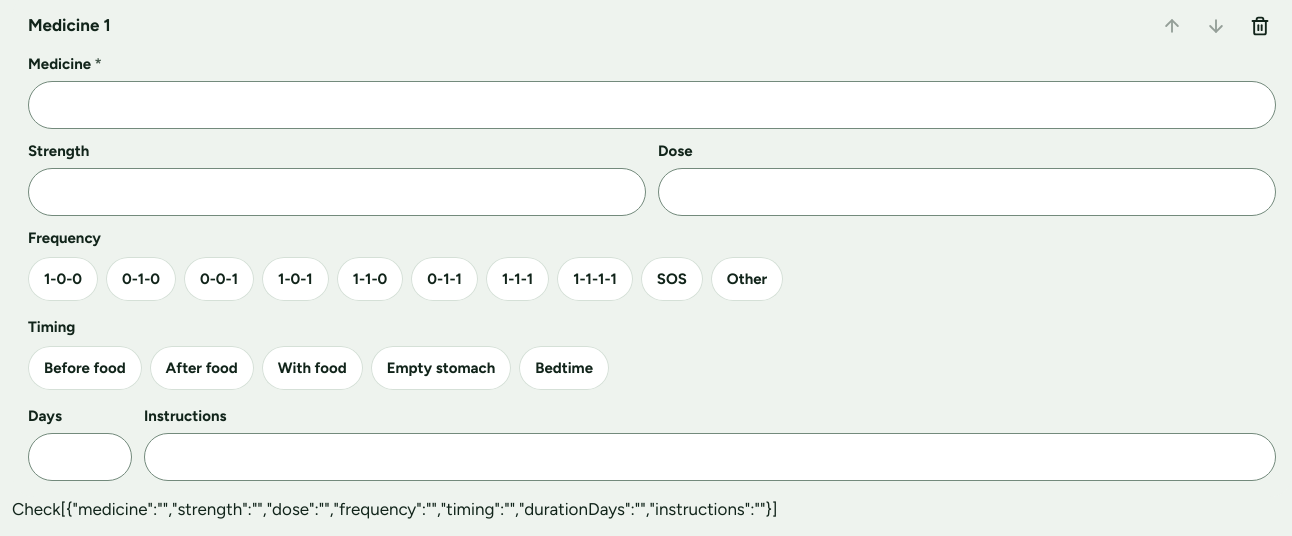
Test: MedicineLine (plan §13; D210 – D217) › asks for suggestions only while the name is typed, each with how it was taken (D211)
In the dropdown labelled "Medicine *": (652, 105) [28,81,1276,129], type "zz"
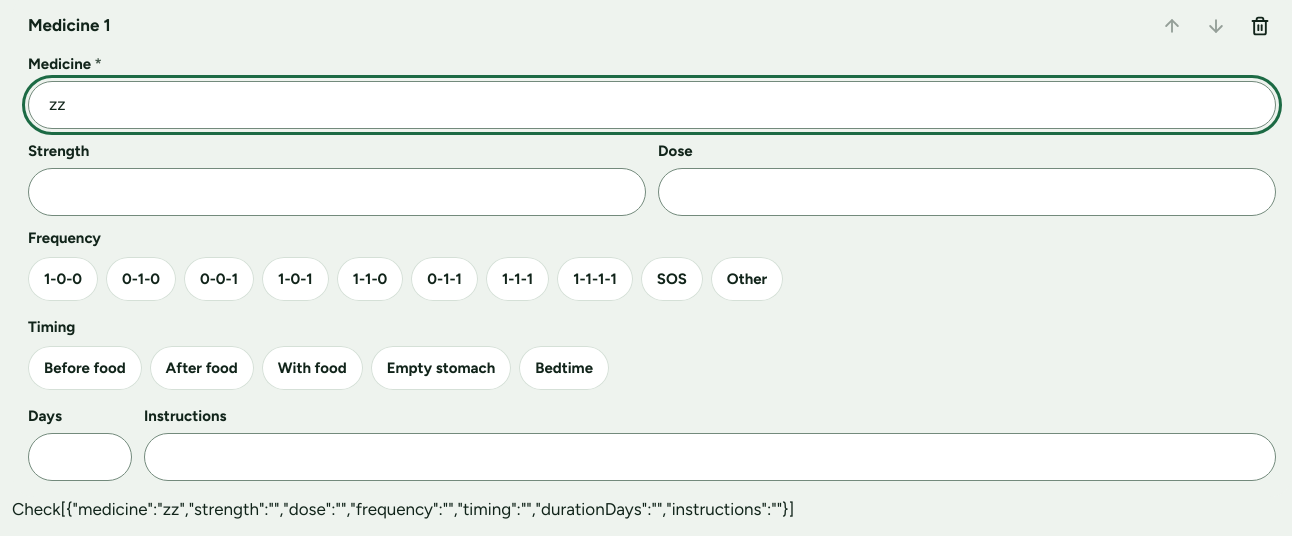
Replace the text in the dropdown labelled "Medicine *" with "pa": (652, 105) [28,81,1276,129]
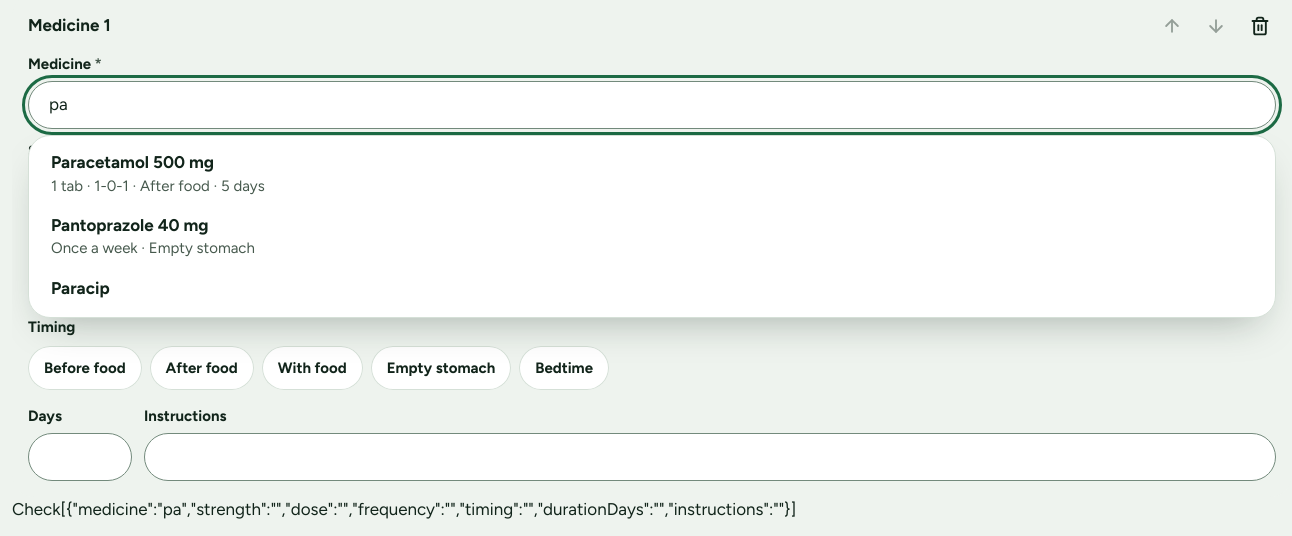
expect the options read "Paracetamol 500 mg1 tab · 1-0-1 · After food · 5 days", "Pantoprazole 40 mgOnce a week · Empty stomach", "Paracip", in this order: met, box [51,152,265,194]; [51,214,255,257]; [51,278,110,298]
Press Tab
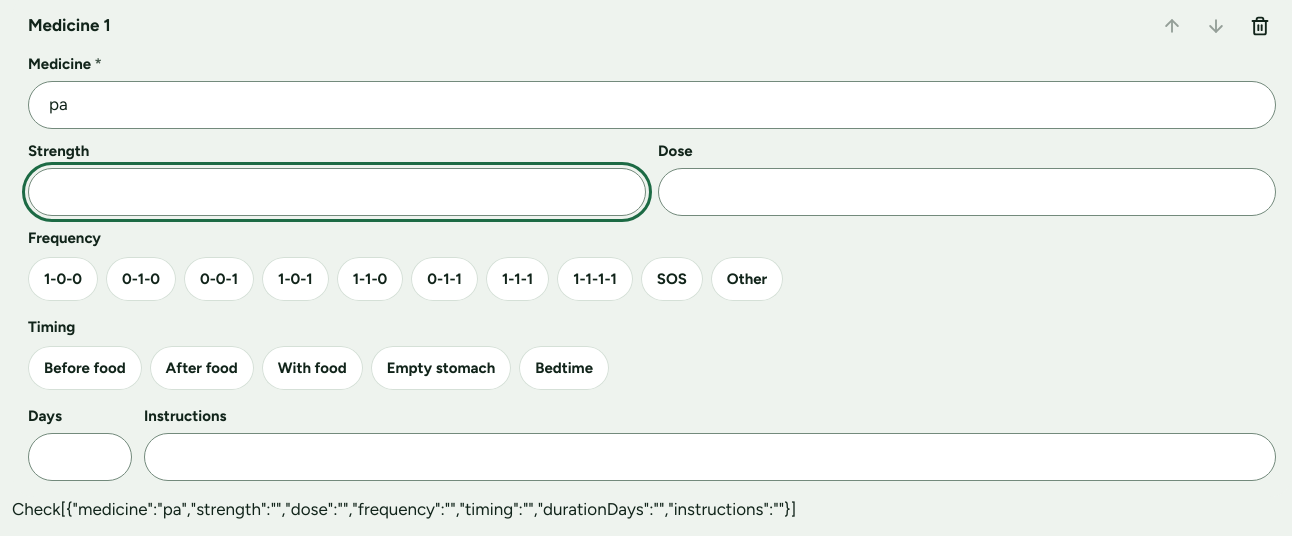
expect the option is gone: met
